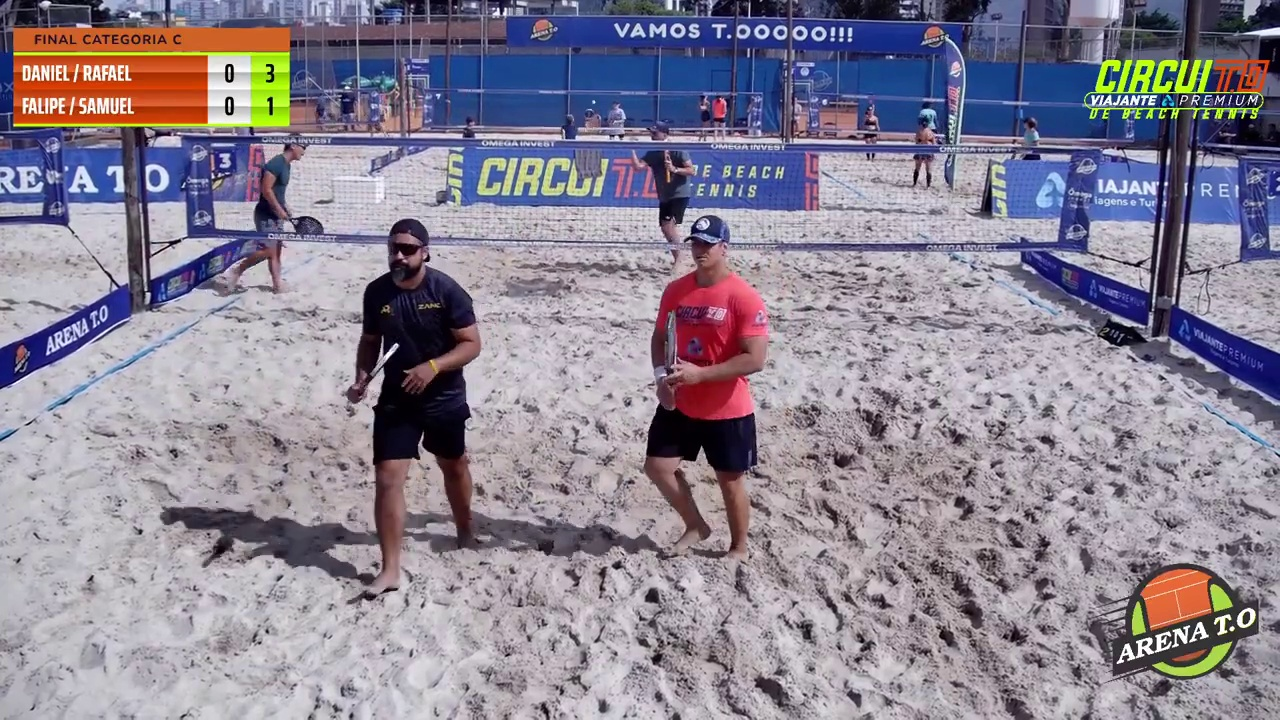court_line: (642, 0, 809, 481)
net: (263, 55, 679, 249)
